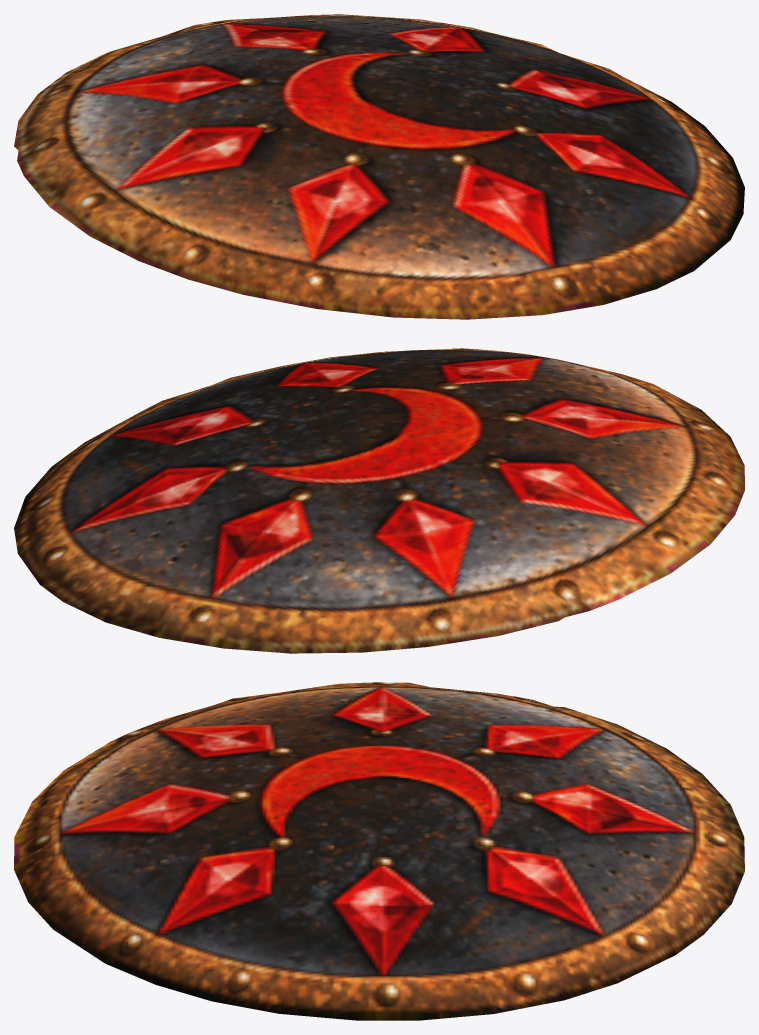
Rendered from item_lshield4.glb.
3 renders of one model, top to bottom at view 1: azimuth 30°, elevation 25°; view 2: azimuth 150°, elevation 25°; view 3: azimuth 270°, elevation 25°, orthographic. The views are drawn at different scales.
Visible parts, largest first — view 1: lshield4; view 2: lshield4; view 3: lshield4.
Boxes of the visible parts, left/top/right/bottom form: lshield4: left=14, top=14, right=744, bottom=319; lshield4: left=14, top=348, right=744, bottom=653; lshield4: left=14, top=682, right=744, bottom=1020.
Size of the model in its own units: 1.95 by 0.2877 by 2.07.
Materials: 1 (1 with a texture image).
